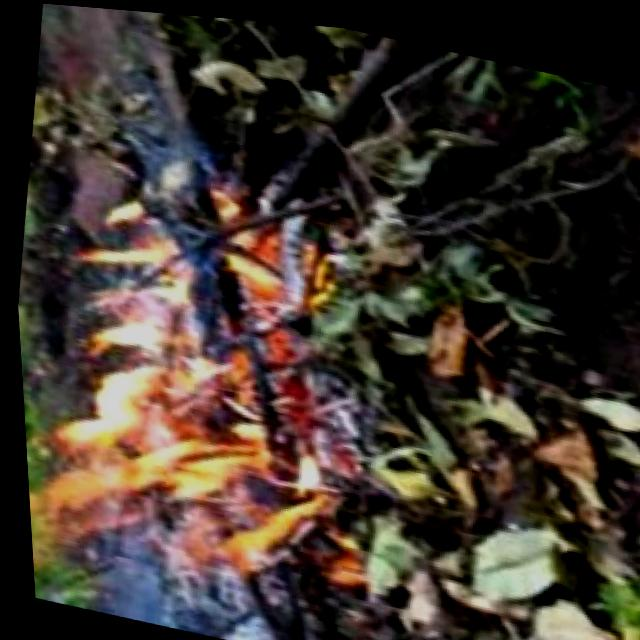helmet: (6, 133, 378, 611)
